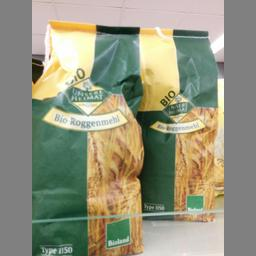flour: (31, 20, 143, 254), (135, 28, 218, 222)
